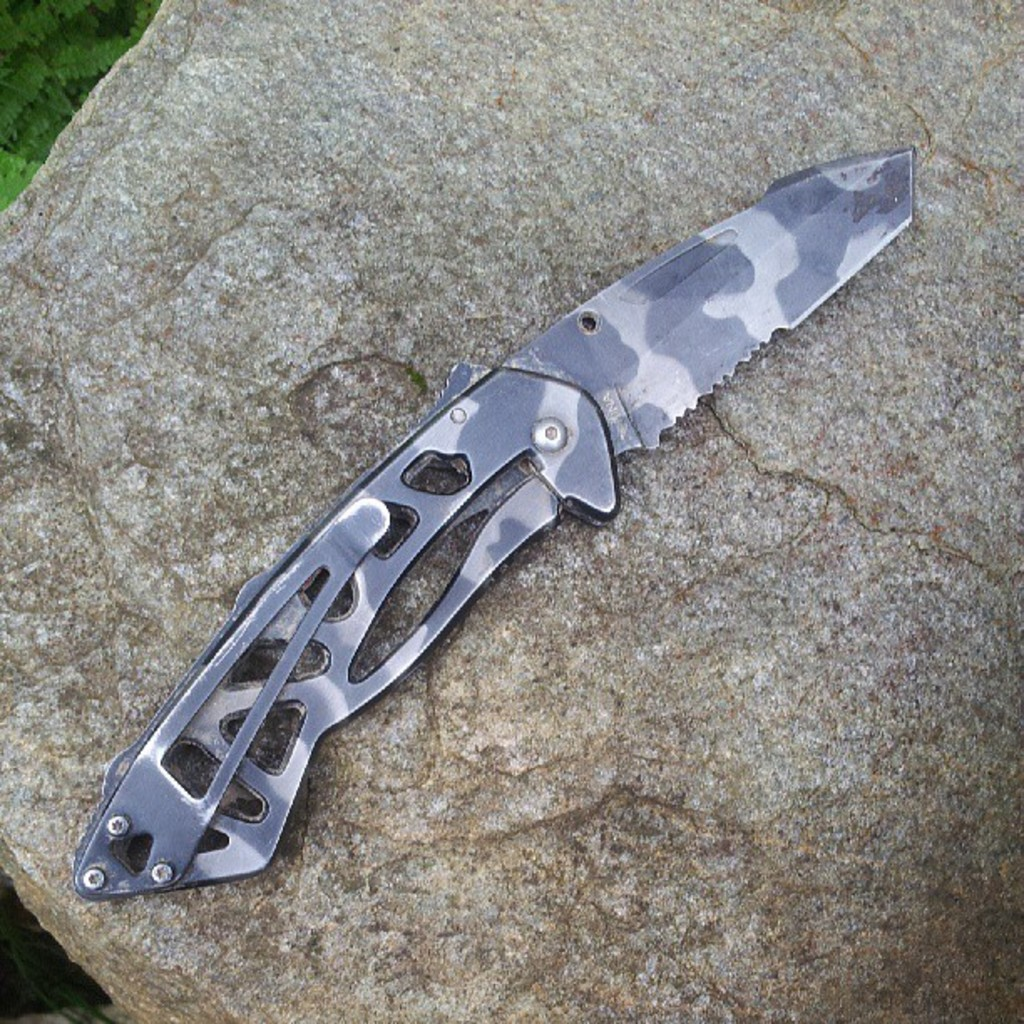knife: (74, 147, 912, 901)
